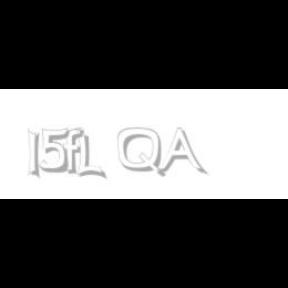5: (38, 128, 70, 174)
A: (157, 128, 205, 176)
I: (28, 128, 40, 180)
L: (76, 128, 104, 180)
Q: (118, 128, 164, 178)
f: (63, 128, 87, 174)
